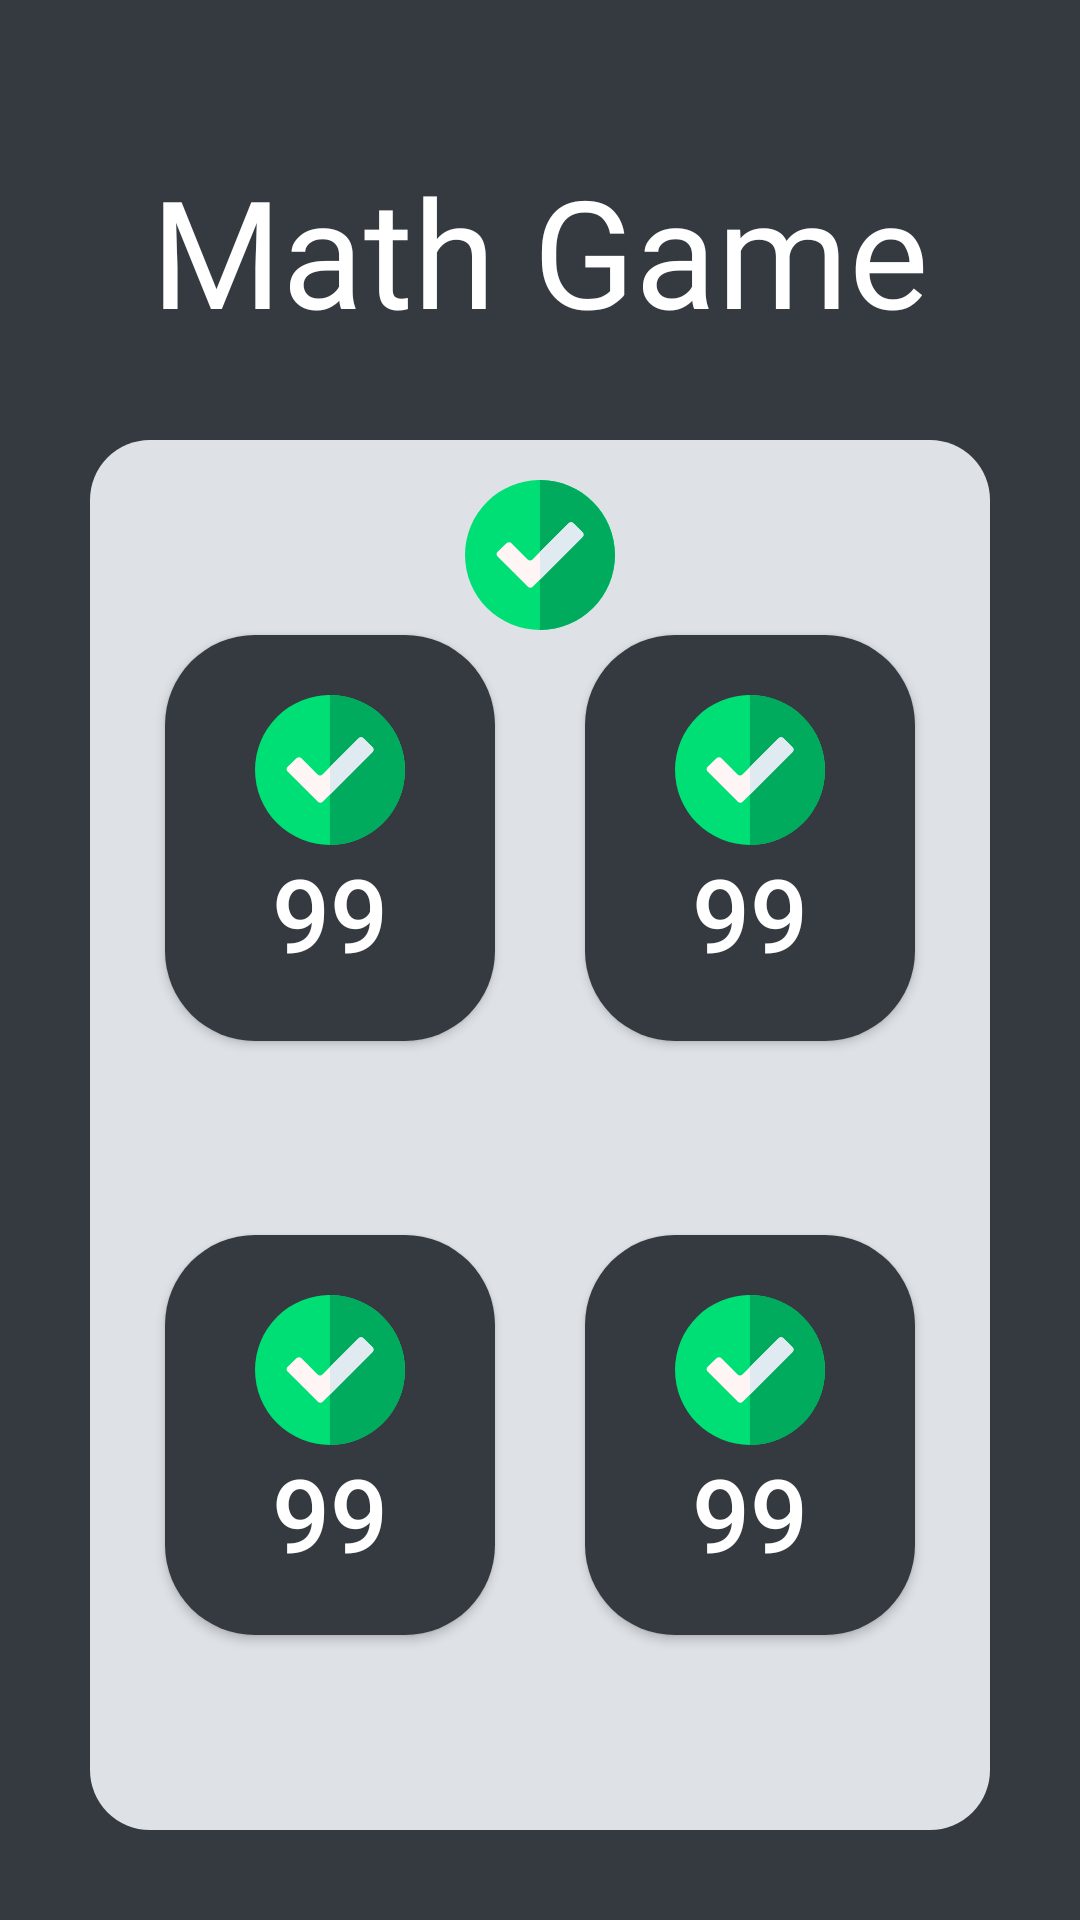

Named icons in this screenshot (1080w x 1920h) and their centers, point (x, y):
check: point (540, 555)
